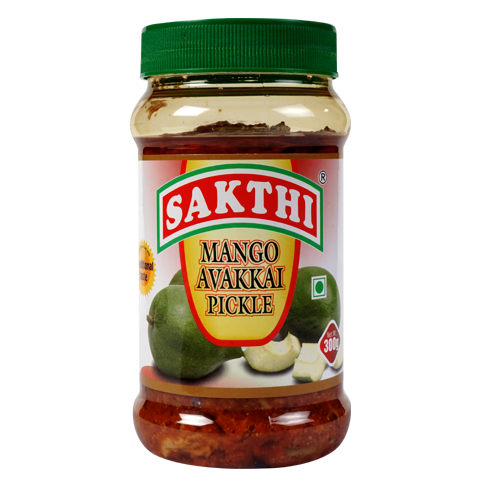VEG: (311, 275, 327, 300)
